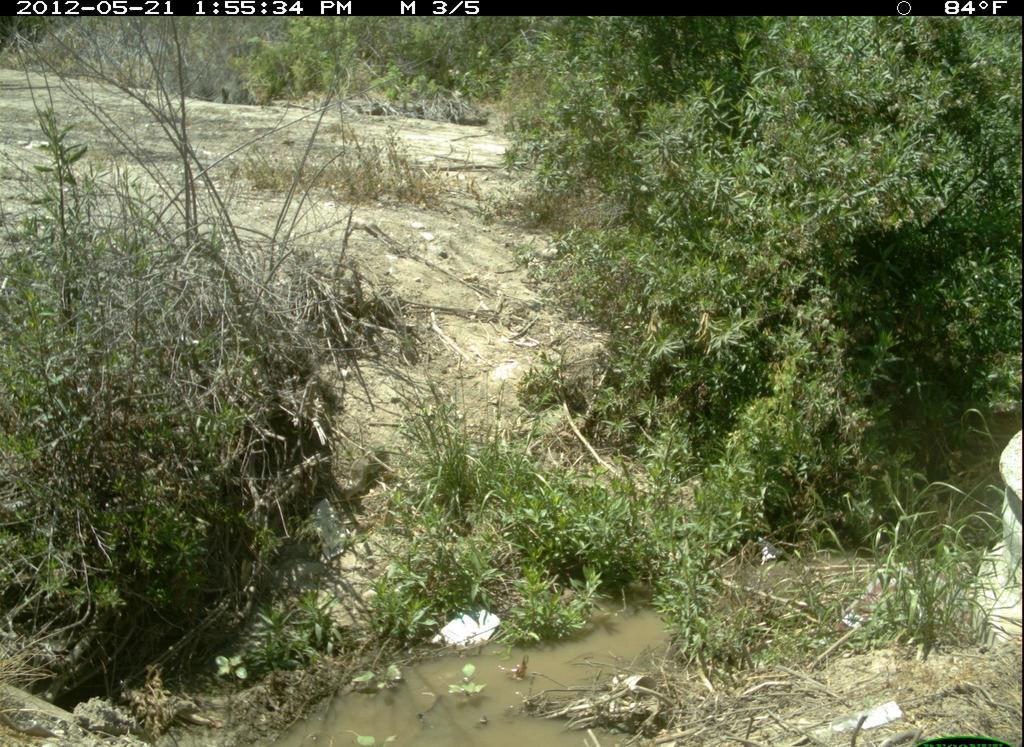squirrel: (334, 435, 398, 513)
